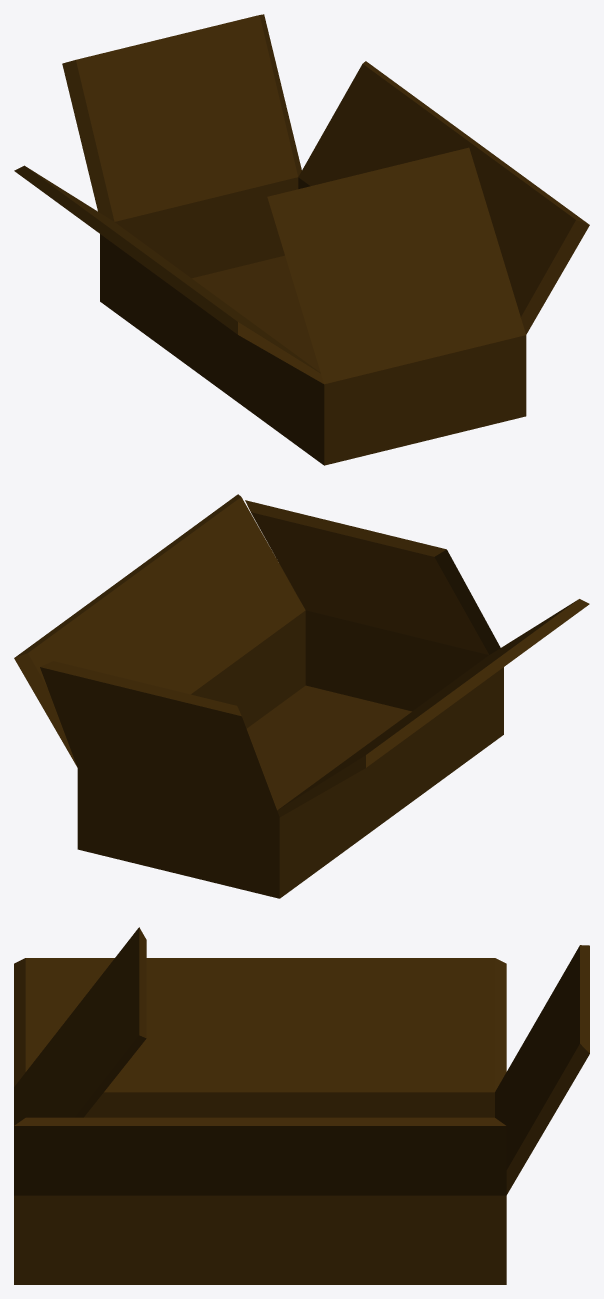
3 renders of one model, top to bottom at view 1: azimuth 30°, elevation 25°; view 2: azimuth 150°, elevation 25°; view 3: azimuth 270°, elevation 25°, orthographic. The views are drawn at different scales.
Parts seen in each view (by area): view 1: Cube.008; view 2: Cube.008; view 3: Cube.008.
Boxes of the visible parts, x1,y1,x2,y2 form: Cube.008: [14, 14, 589, 465]; Cube.008: [14, 494, 589, 898]; Cube.008: [14, 927, 589, 1284].
Bounding box in the file's own units: 181 × 112 × 234.
